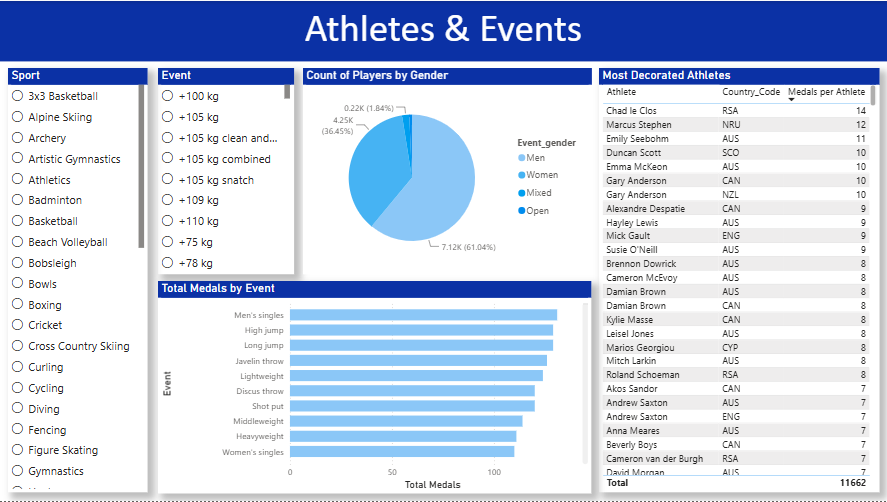

Layout of this report page (visuals, bound fields, positions):
{"tool":"powerbi","page":{"name":"Athletes & Events","canvas":[1280,720],"ordinal":2},"visuals":[{"type":"textbox","box":[0,0,1280,87.1],"z":0},{"type":"listSlicer","fields":{"Values":["Commonwealth_Medalists_1930_2026.Event"]},"box":[228.6,97.1,195.7,297.1],"z":1000},{"type":"listSlicer","fields":{"Values":["Commonwealth_Medalists_1930_2026.Sport"]},"box":[12.9,97.1,201.4,611.4],"z":2000},{"type":"tableEx","title":"Most Decorated Athletes","fields":{"Values":["Commonwealth_Medalists_1930_2026.Athlete","Commonwealth_Medalists_1930_2026.Country_Code","Commonwealth_Medalists_1930_2026.Medals per Athlete"]},"box":[864.3,97.1,404.3,611.4],"z":3000},{"type":"barChart","fields":{"Category":["Commonwealth_Medalists_1930_2026.Event"],"Y":["Commonwealth_Medalists_1930_2026.Total Medals"]},"box":[228.6,402.9,624.3,305.7],"z":4000},{"type":"pieChart","title":"Count of Players by Gender","fields":{"Category":["Commonwealth_Medalists_1930_2026.Event_gender"],"Y":["CountNonNull(Commonwealth_Medalists_1930_2026.Event_gender)"]},"box":[437.1,97.1,415.7,297.1],"z":5000}]}

Visuals, with their boxes in screenshot pixels (x1, y1, x2, y2), scaled from the page's 1280x720 canvas onto the 887x502 screenshot:
textbox: [0,0,886,61]
listSlicer - Commonwealth_Medalists_1930_2026.Event: [158,68,294,275]
listSlicer - Commonwealth_Medalists_1930_2026.Sport: [9,68,149,494]
"Most Decorated Athletes" tableEx: [599,68,879,494]
barChart - Commonwealth_Medalists_1930_2026.Event x Commonwealth_Medalists_1930_2026.Total Medals: [158,281,591,494]
"Count of Players by Gender" pieChart: [303,68,591,275]
